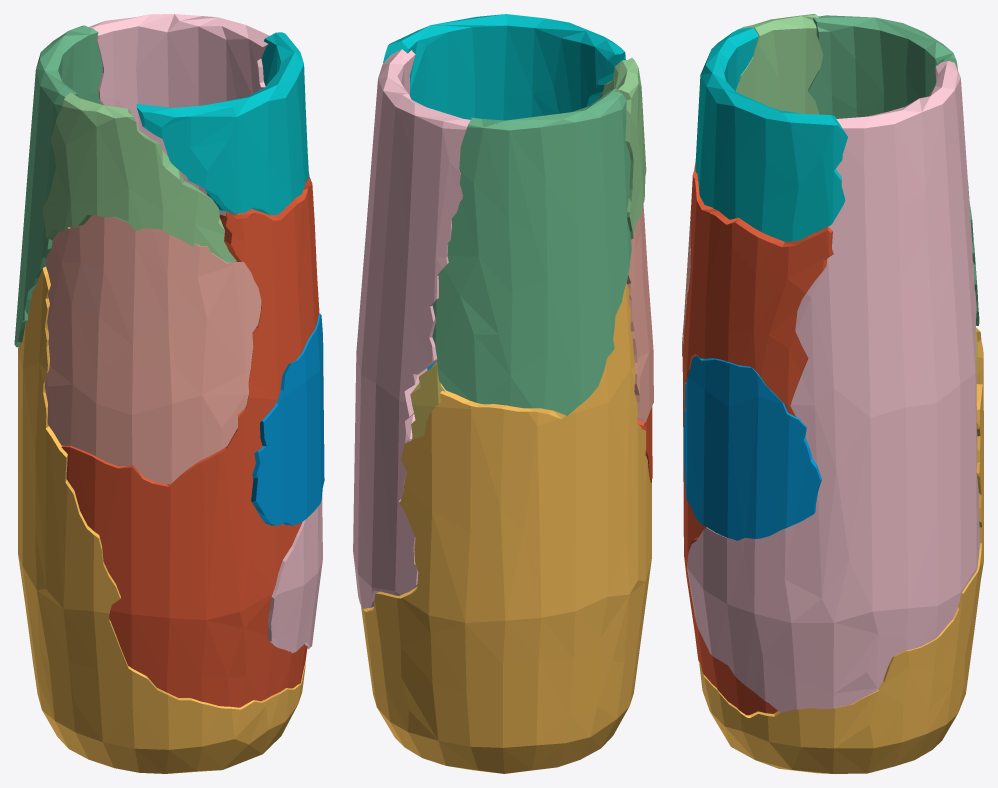
3 renders of one model, left to right at view 1: azimuth 30°, elevation 25°; view 2: azimuth 150°, elevation 25°; view 3: azimuth 270°, elevation 25°, orthographic.
Parts seen in each view (by area): view 1: Object_piece_8.001, Object_piece_8.004, Object_piece_8, Object_piece_8.005, Object_piece_8.007, Object_piece_8.006, Object_piece_8.003, Object_piece_8.002; view 2: Object_piece_8, Object_piece_8.002, Object_piece_8.005, Object_piece_8.007, Object_piece_8.004, Object_piece_8.006, Object_piece_8.008; view 3: Object_piece_8.005, Object_piece_8.001, Object_piece_8, Object_piece_8.007, Object_piece_8.003, Object_piece_8.002, Object_piece_8.006.
Boxes of the visible parts, x1=… form: Object_piece_8.001: x1=61, y1=174, x2=319, y2=707; Object_piece_8.004: x1=45, y1=215, x2=261, y2=484; Object_piece_8: x1=18, y1=266, x2=305, y2=773; Object_piece_8.005: x1=88, y1=14, x2=322, y2=653; Object_piece_8.007: x1=136, y1=32, x2=309, y2=215; Object_piece_8.006: x1=42, y1=92, x2=236, y2=262; Object_piece_8.003: x1=251, y1=314, x2=324, y2=525; Object_piece_8.002: x1=14, y1=25, x2=102, y2=347; Object_piece_8: x1=361, y1=283, x2=651, y2=773; Object_piece_8.002: x1=432, y1=89, x2=631, y2=415; Object_piece_8.005: x1=353, y1=49, x2=470, y2=608; Object_piece_8.007: x1=383, y1=14, x2=625, y2=120; Object_piece_8.004: x1=626, y1=204, x2=653, y2=422; Object_piece_8.006: x1=595, y1=58, x2=646, y2=239; Object_piece_8.008: x1=410, y1=361, x2=446, y2=439; Object_piece_8.005: x1=687, y1=61, x2=979, y2=712; Object_piece_8.001: x1=682, y1=162, x2=833, y2=715; Object_piece_8: x1=699, y1=328, x2=983, y2=773; Object_piece_8.007: x1=695, y1=27, x2=847, y2=241; Object_piece_8.003: x1=683, y1=355, x2=821, y2=540; Object_piece_8.002: x1=808, y1=15, x2=979, y2=325; Object_piece_8.006: x1=735, y1=14, x2=823, y2=114.
Size of the model in its own units: 0.4132 by 1.01 by 0.4143.
